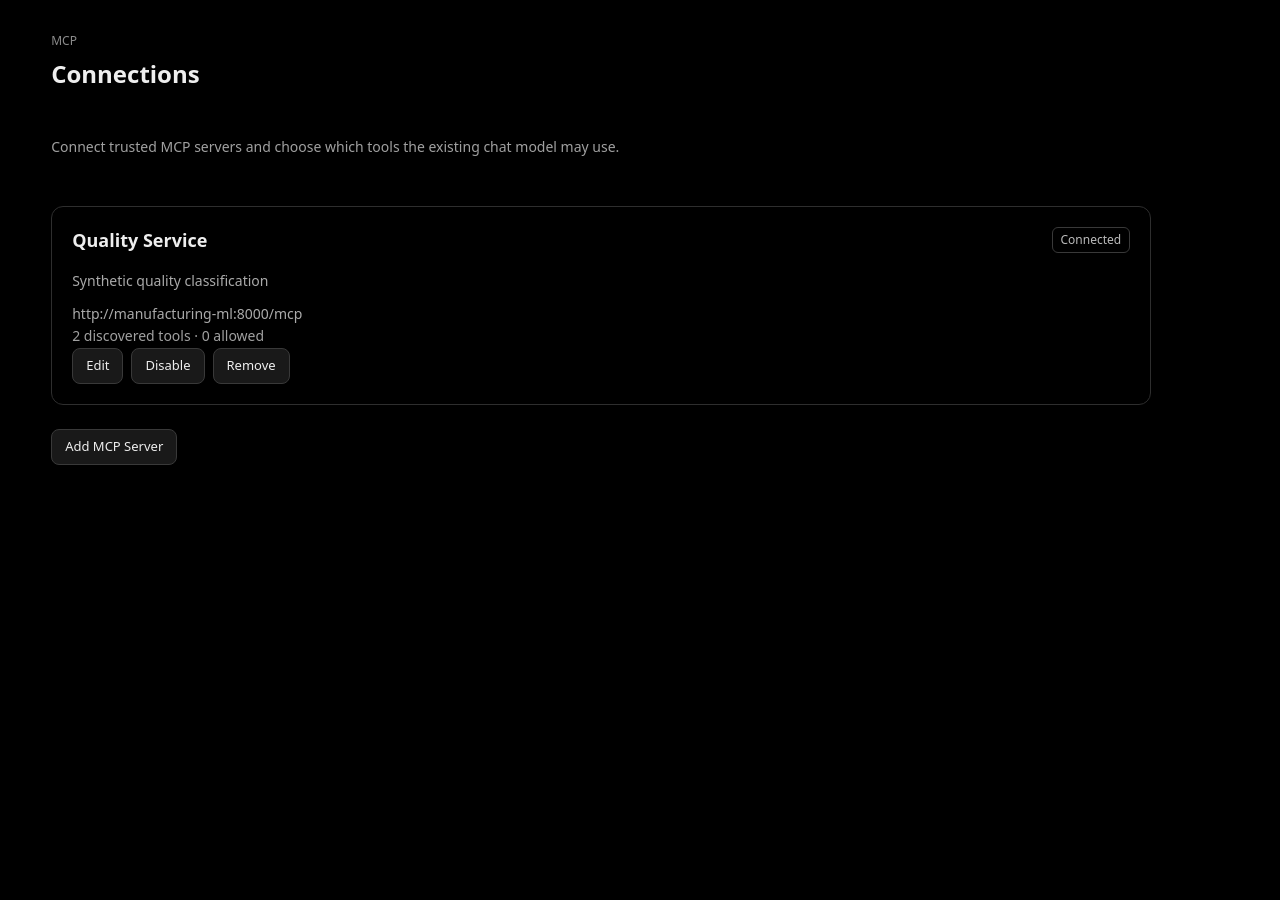
Test case: connection enable/disable and removal require explicit management actions
What coordinates should you click on to do the following:
click the button "Disable"
I would click on:
 (168, 366)
Its box is x1=132 y1=348 x2=204 y2=384.
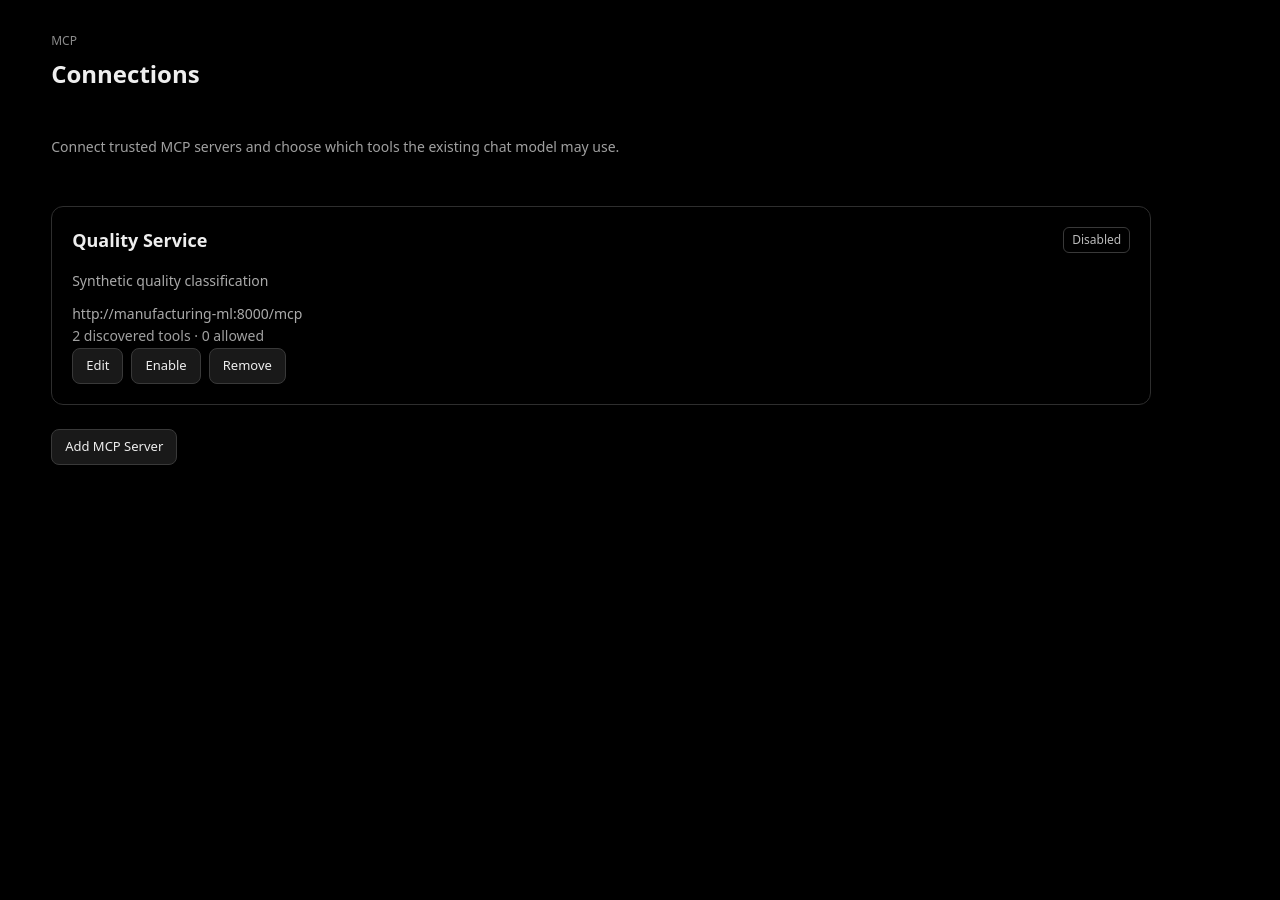
What coordinates should you click on to do the following:
click the button "Remove"
I would click on:
 (247, 366)
Its box is x1=209 y1=348 x2=286 y2=384.
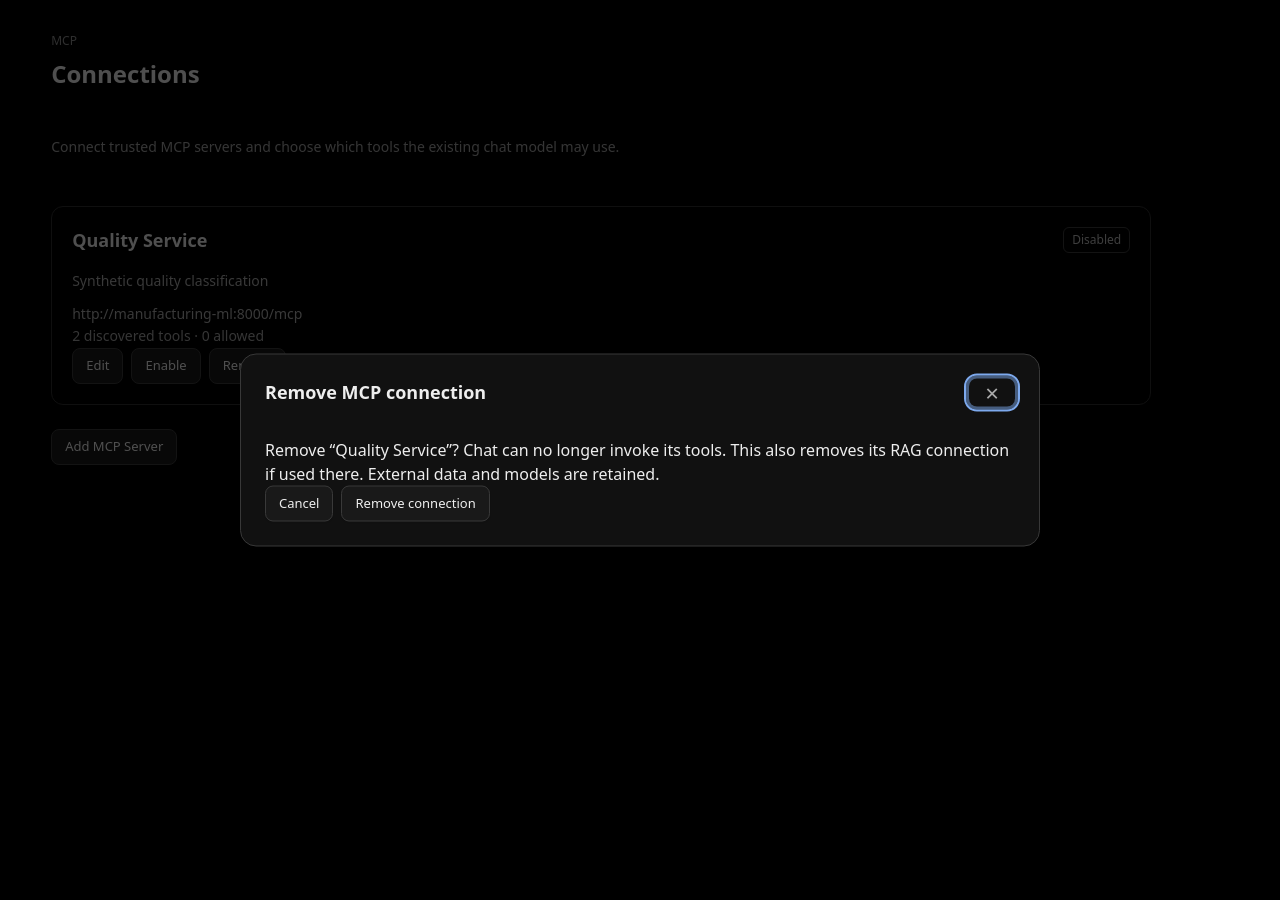
What coordinates should you click on to do the following:
click the button "Remove connection"
I would click on:
 (416, 504)
Its box is x1=342 y1=486 x2=490 y2=522.
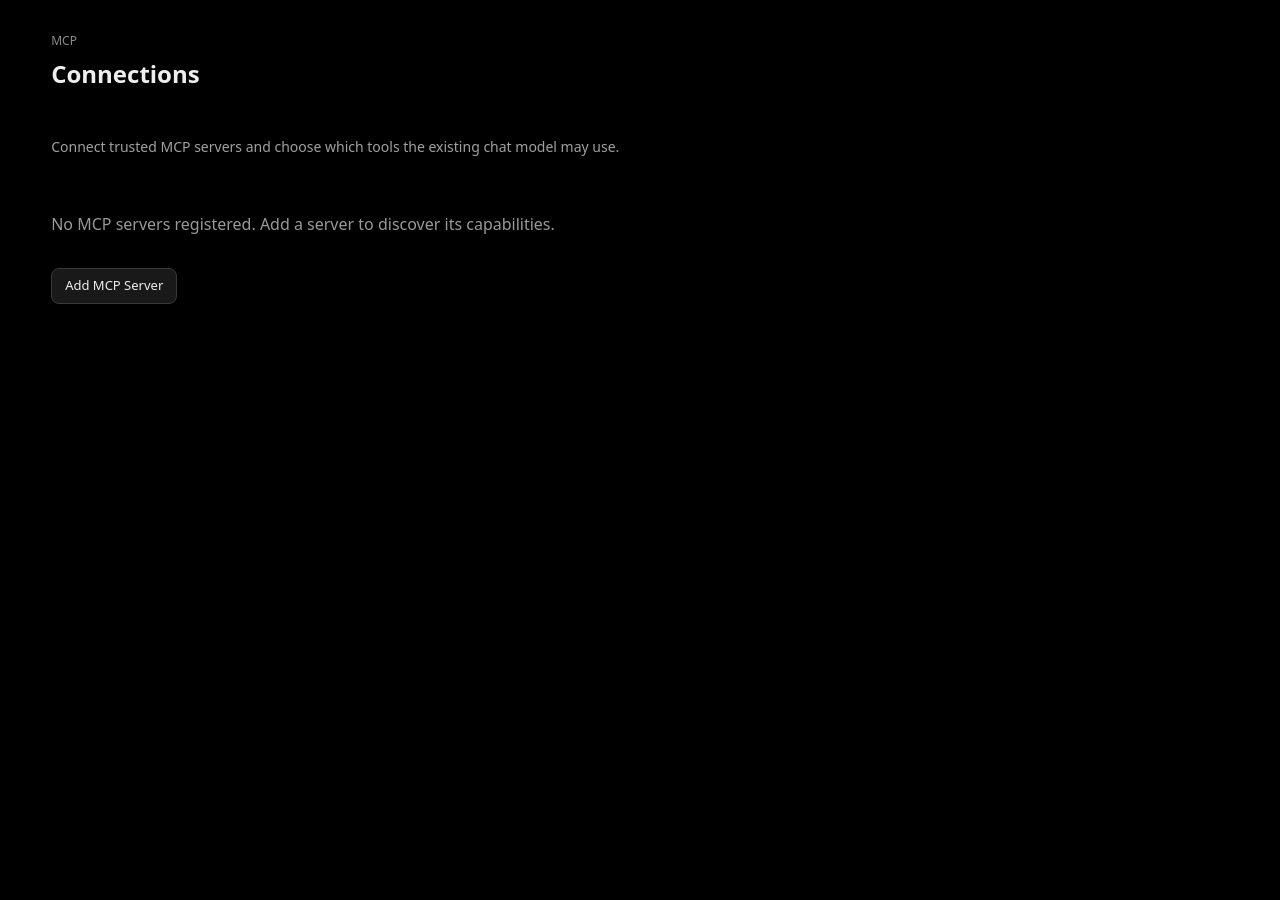
Check: the text "No MCP servers registered" is shown, box x1=51 y1=213 x2=555 y2=235
